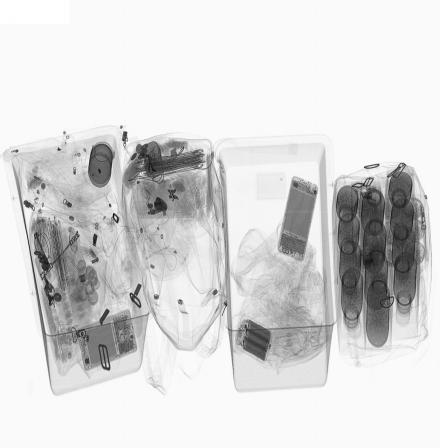Powerbank: (233, 310, 275, 367)
